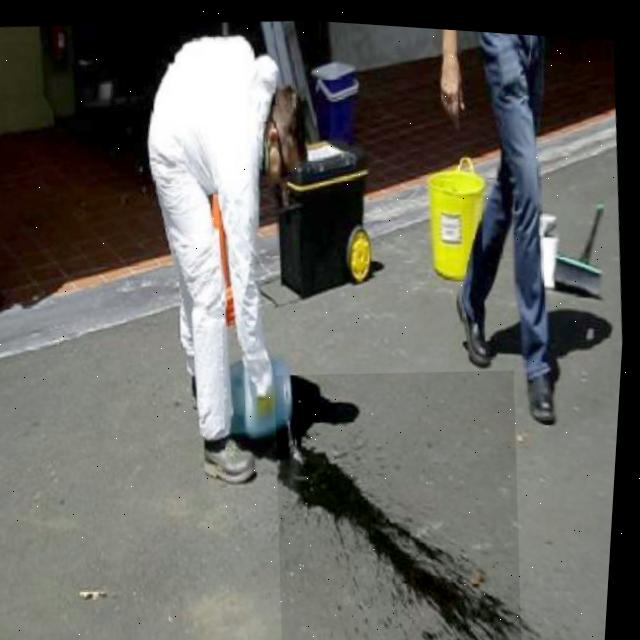spillage: (283, 371, 523, 640)
